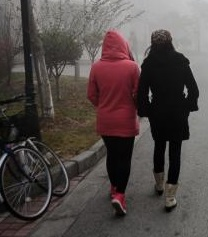person: (135, 28, 200, 213), (85, 28, 145, 220)
